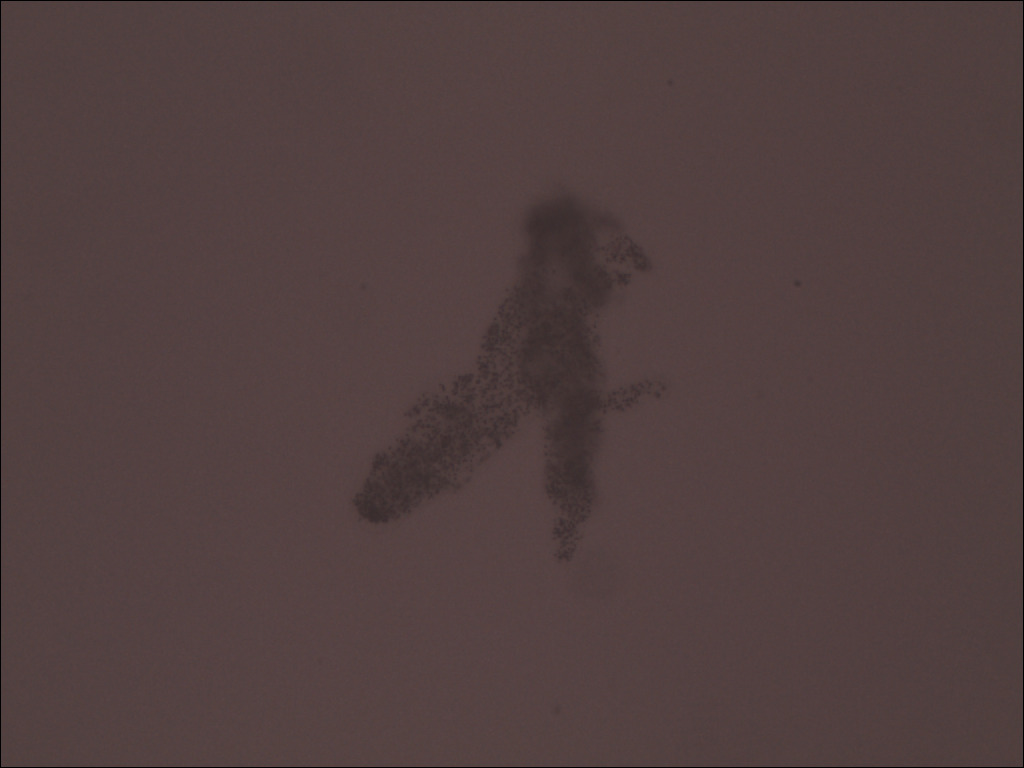amoeba: (336, 179, 699, 578)
